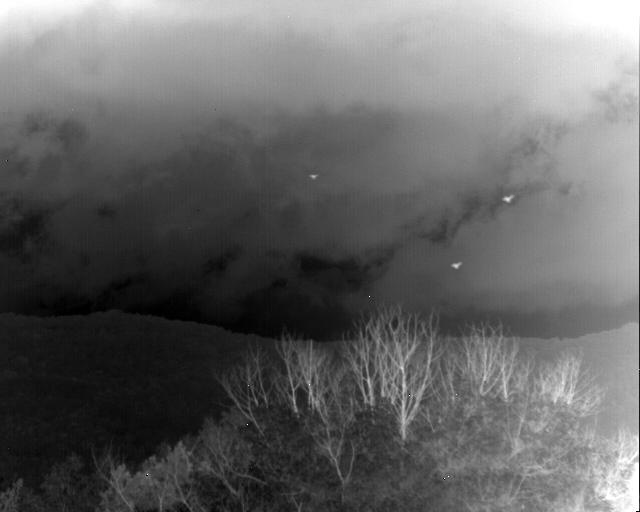plane: (451, 261, 463, 270), (501, 195, 514, 203), (309, 173, 319, 179)
